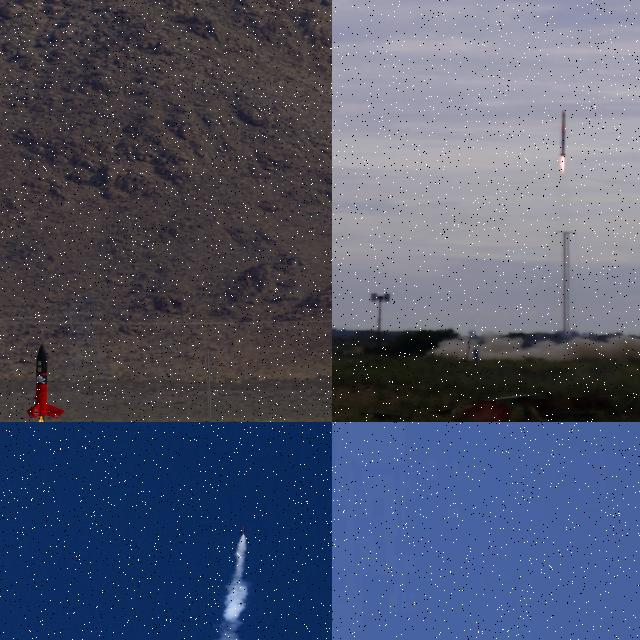Rocket: (26, 343, 65, 419), (559, 109, 567, 157), (238, 525, 248, 538)
